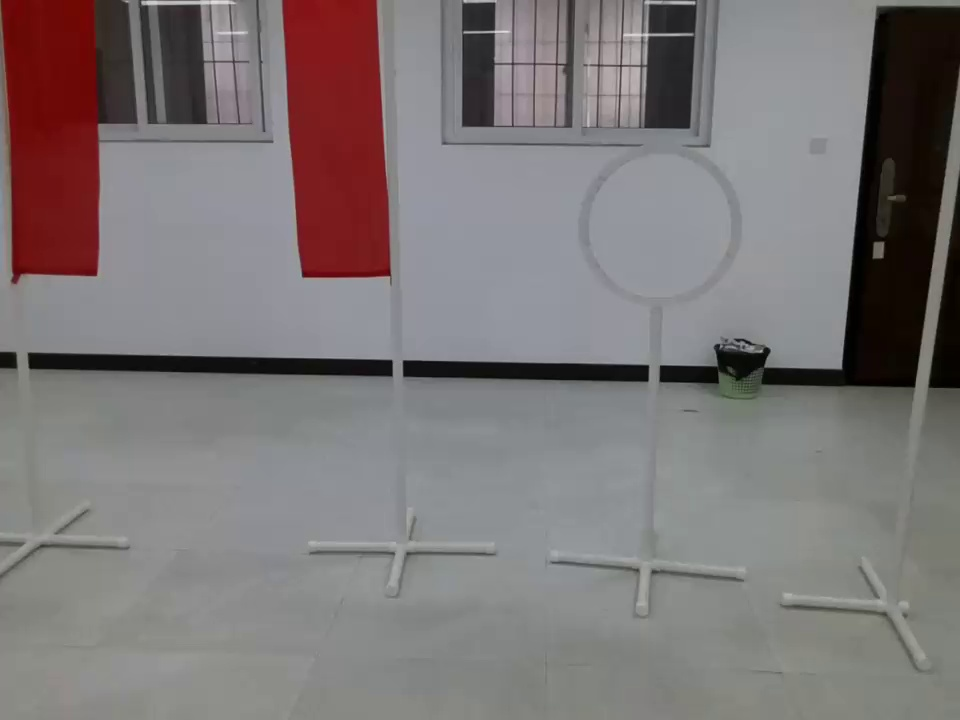qi: (280, 1, 406, 318), (1, 1, 102, 301)
quan: (576, 139, 748, 335)
